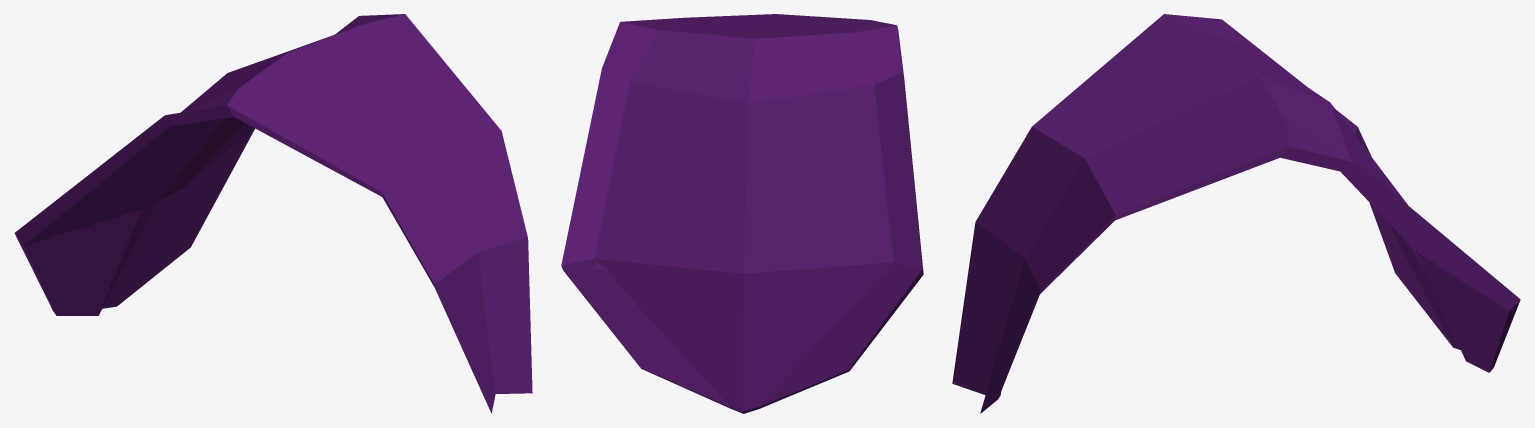
File: Right_Side_Fall.fbx
The picture shows the model from 3 angles, left to right: view 1: azimuth 30°, elevation 25°; view 2: azimuth 150°, elevation 25°; view 3: azimuth 270°, elevation 25°; orthographic projection. The views are drawn at different scales.
Parts seen in each view (by area): view 1: Side Fall.001; view 2: Side Fall.001; view 3: Side Fall.001.
Part boxes in pixels (x1,y1,x2,y2): Side Fall.001: [14, 14, 532, 413]; Side Fall.001: [561, 14, 923, 413]; Side Fall.001: [952, 14, 1520, 413].
Bounding box in the file's own units: 381 × 310 × 484.
